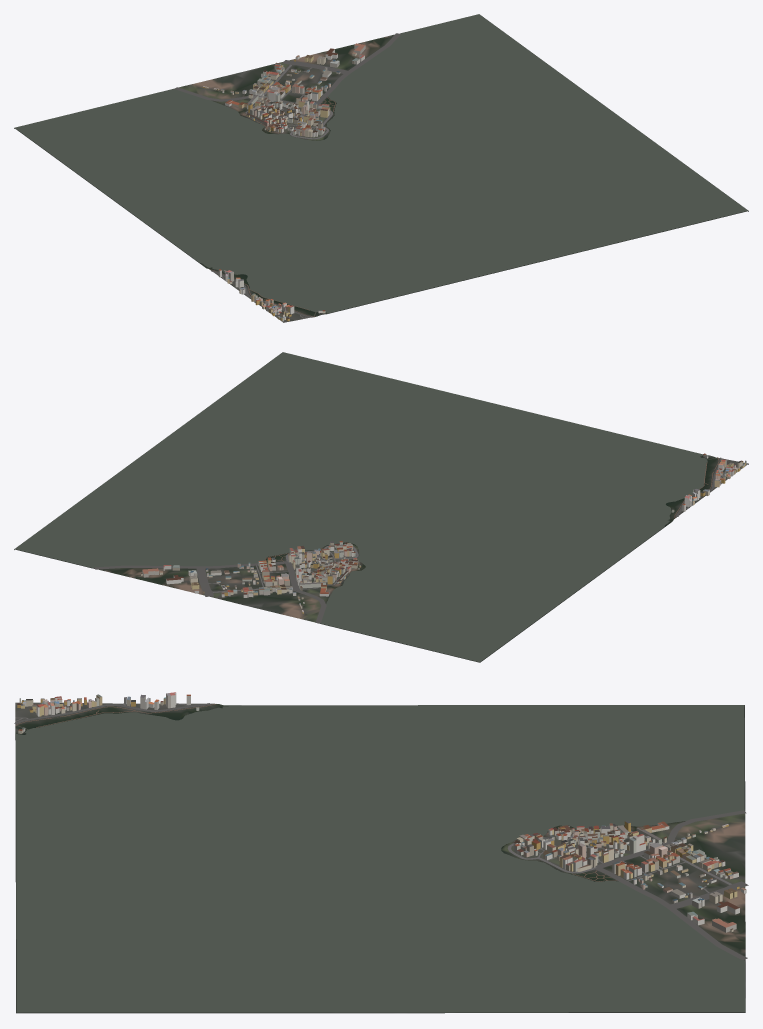
3 renders of one model, top to bottom at view 1: azimuth 30°, elevation 25°; view 2: azimuth 150°, elevation 25°; view 3: azimuth 270°, elevation 25°, orthographic. The views are drawn at different scales.
Visible parts, largest first — view 1: water, ground, buildings, roads; view 2: water, ground, buildings, roads; view 3: water, ground, buildings, roads.
Part boxes in pixels (x1,y1,x2,y2): water: (15,14,747,316); ground: (14,15,748,322); buildings: (202,43,365,321); roads: (174,33,400,318); water: (15,352,718,662); ground: (14,352,748,662); buildings: (141,453,746,613); roads: (94,457,736,623); water: (15,705,745,1012); ground: (15,702,745,1013); buildings: (17,692,746,932); roads: (14,702,748,959).
Size of the model in its own units: 1406 by 33.48 by 1412.
